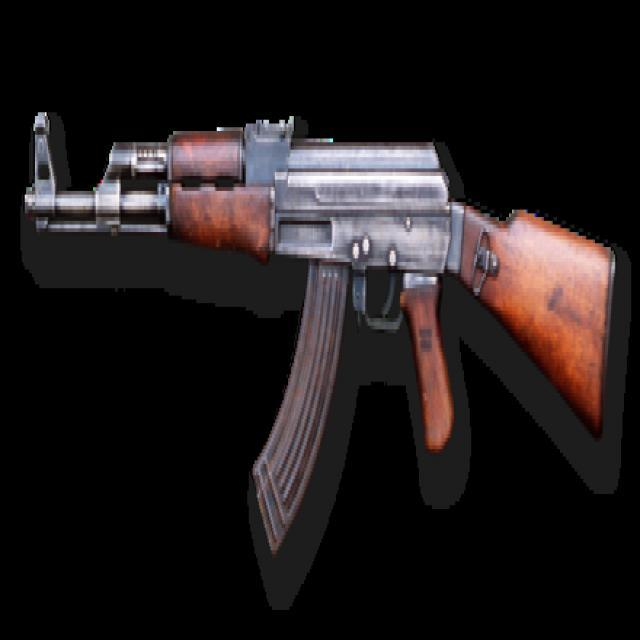rifle: (20, 99, 626, 560)
